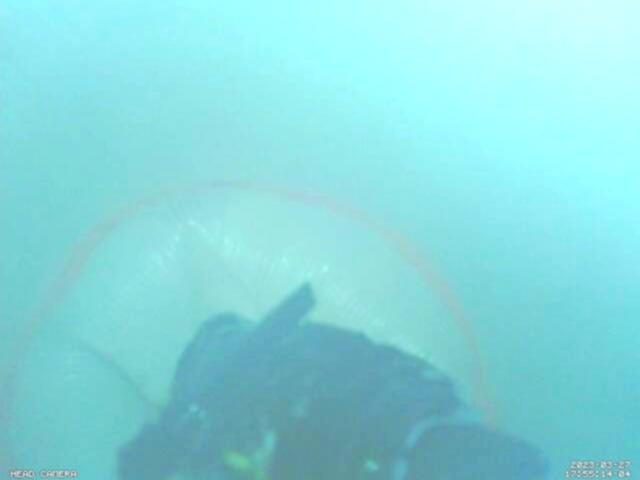head: (0, 179, 504, 479)
